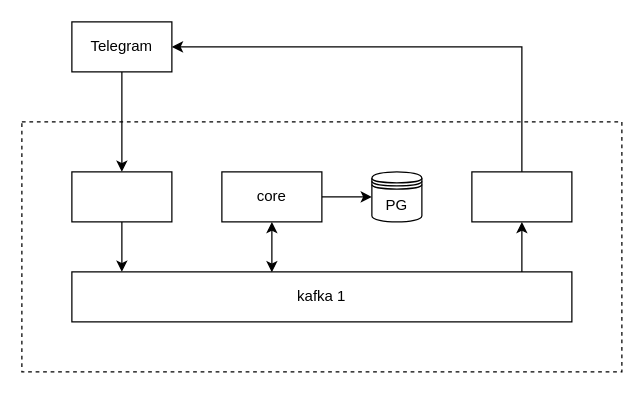
This 644x394 diagram has some shape labels left out. The shapes that lost their labels are listed below. From the top down, each one's box as (x1, y1, x2, y2) in pixels, then its label:
(71, 171, 172, 222): poller
(471, 171, 572, 222): sender
